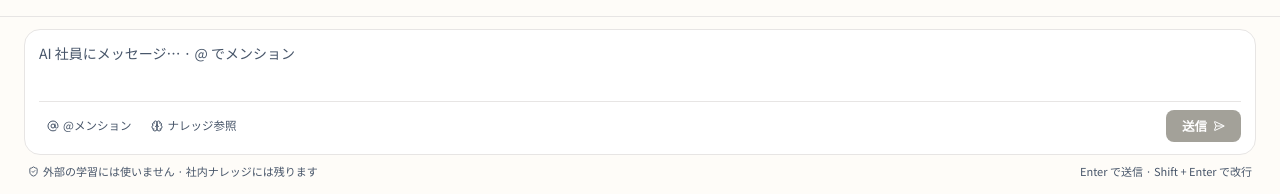
Test: ChatPanel ピッカー (GAP-118 coverage) › shows an honest empty state when no mention candidates
Click the button "@メンション": (89, 126) [39,113,139,139]
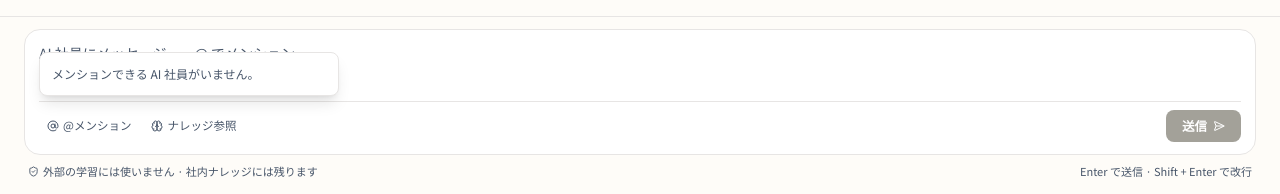
Expected: the text "メンションできる AI 社員がいません。" is shown, [52,64,260,82]
